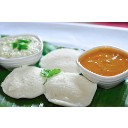idly: (45, 69, 95, 105), (3, 63, 43, 96), (45, 46, 80, 73)
